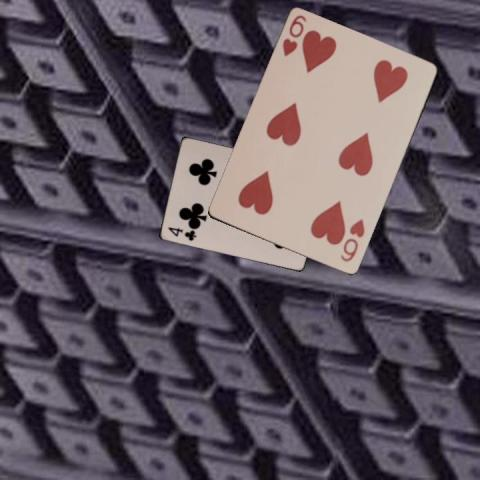4c: (165, 224, 197, 243)
6h: (337, 216, 367, 264), (279, 12, 309, 59)
